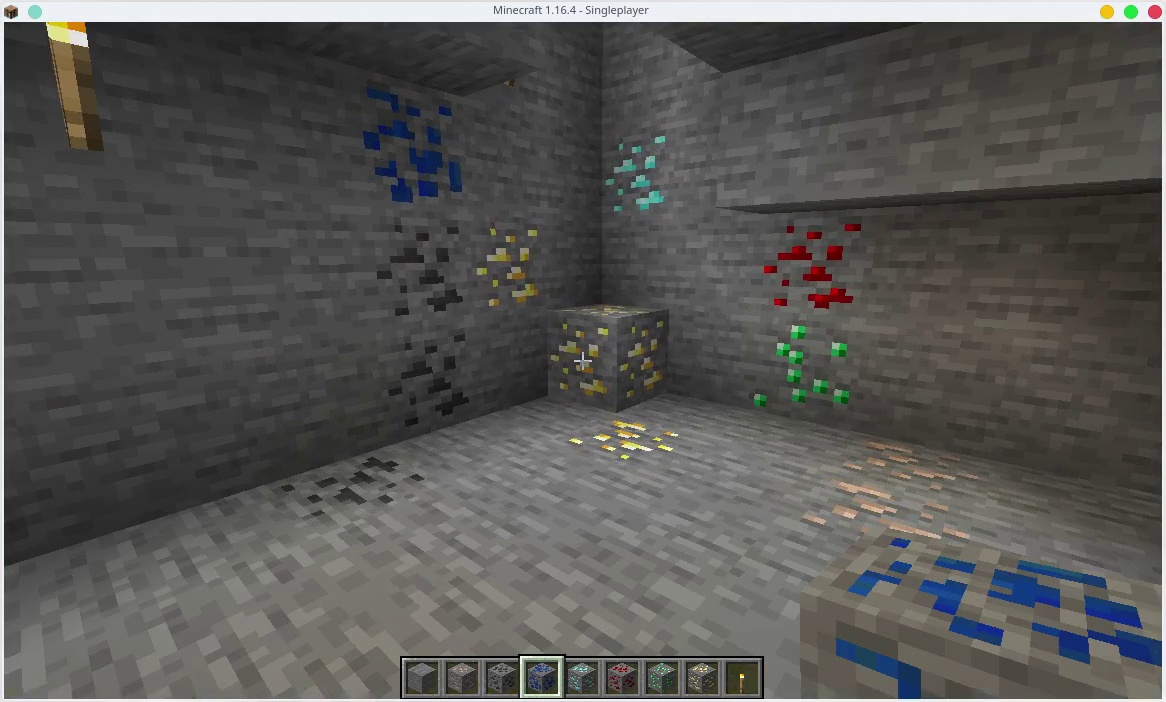gold: (545, 311, 665, 407), (471, 226, 542, 314), (569, 421, 685, 455), (684, 663, 721, 695)
